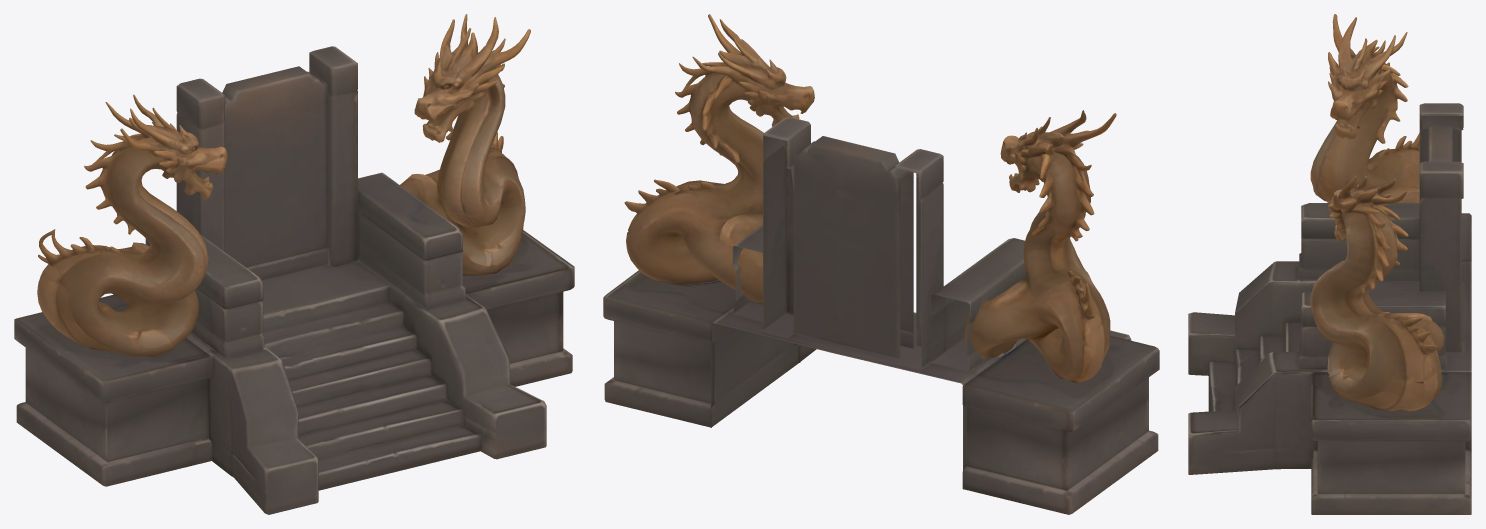
The model's file is SM_Tripo_ZhurongThrone.glb.
3 views of the same model, side by side, from view 1: azimuth 30°, elevation 25°; view 2: azimuth 150°, elevation 25°; view 3: azimuth 270°, elevation 25° (orthographic). The views are drawn at different scales.
Visible parts, largest first — view 1: SM_Tripo_ZhurongThrone_LOD0; view 2: SM_Tripo_ZhurongThrone_LOD0; view 3: SM_Tripo_ZhurongThrone_LOD0.
Boxes of the visible parts, left/top/right/bottom form: SM_Tripo_ZhurongThrone_LOD0: left=14, top=14, right=574, bottom=514; SM_Tripo_ZhurongThrone_LOD0: left=603, top=14, right=1159, bottom=514; SM_Tripo_ZhurongThrone_LOD0: left=1188, top=14, right=1471, bottom=514.
Bounding box in the file's own units: 9.88 × 7 × 5.66.
Materials: 1 (1 with a texture image).
